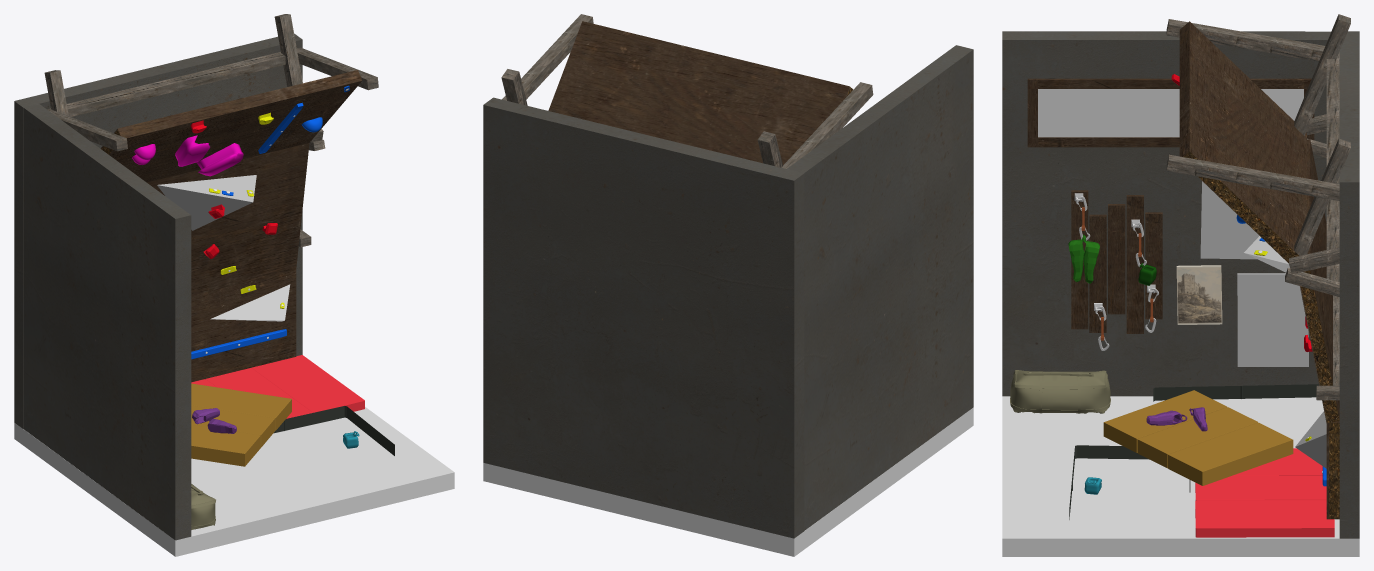
Rendered from Katz_Isabella_P1_Final.fbx.
3 renders of one model, left to right at view 1: azimuth 30°, elevation 25°; view 2: azimuth 150°, elevation 25°; view 3: azimuth 270°, elevation 25°, orthographic. The views are drawn at different scales.
Visible parts, largest first — view 1: Wall1, Floor, Wall2, Center, Top, Bottom, Crashpad.003, Crashpad.004, wall support top, triangle.001, triangle, Crashpad.002 (+8 smaller); view 2: Wall2, Wall1, Top, Floor, wall support left.003, wall support right.008, wall support right.006, wall support left.005; view 3: Wall1, Floor, Top, Wall2, Crashpad.003, Crashpad.004, window, poster.003, window.003, duffle bag, Center, wall support right.008 (+23 smaller).
Boxes of the visible parts, x1,y1,x2,y2 form: Wall1: (23,104,191,540); Floor: (14,407,454,556); Wall2: (14,33,302,428); Center: (147,143,309,295); Top: (100,70,362,182); Bottom: (191,270,296,382); Crashpad.003: (191,383,291,466); Crashpad.004: (191,355,364,418); wall support top: (50,52,285,116); triangle.001: (157,175,256,230); triangle: (210,284,290,321); Crashpad.002: (274,406,394,455); Wall2: (483,97,804,538); Wall1: (787,45,973,530); Top: (548,21,853,165); Floor: (483,407,973,556); wall support left.003: (781,82,873,168); wall support right.008: (502,14,593,100); wall support right.006: (501,69,527,105); wall support left.005: (757,131,782,167); Wall1: (1002,31,1330,396); Floor: (1002,396,1359,556); Top: (1179,21,1306,263); Wall2: (1339,31,1359,538); Crashpad.003: (1103,390,1293,485); Crashpad.004: (1195,448,1334,537); window: (1038,89,1303,137); poster.003: (1237,273,1308,366); window.003: (1027,78,1314,147); duffle bag: (1010,370,1110,413); Center: (1300,139,1339,422); wall support right.008: (1166,154,1339,200).
Size of the model in its own units: 1005 by 1260 by 1005.
